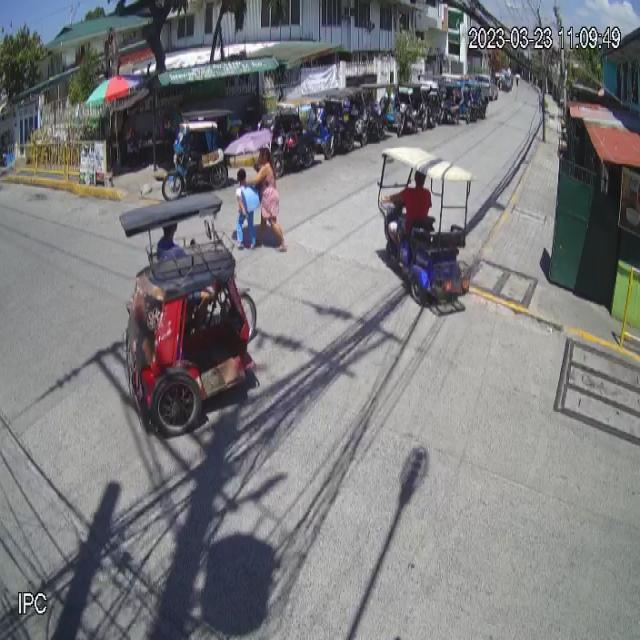Tricycle: (119, 190, 256, 435), (162, 108, 231, 201)
